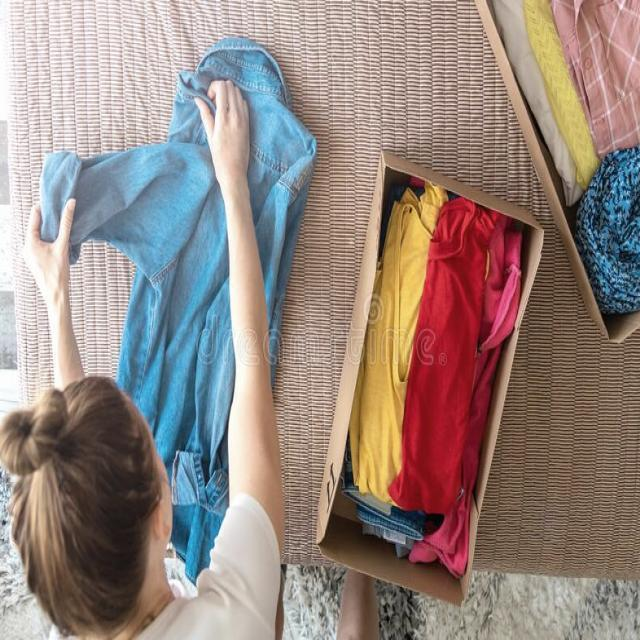clothes: (48, 129, 226, 385), (379, 197, 486, 506), (232, 36, 304, 288)
